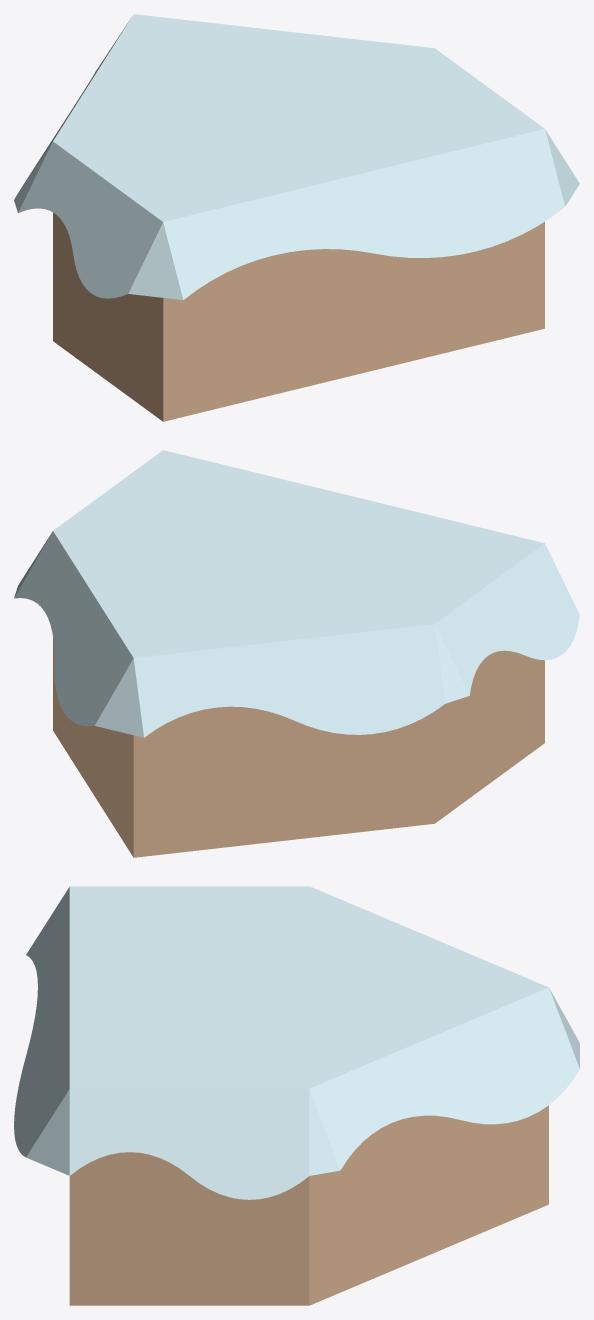
The model's file is blockSnowEnd.glb.
3 renders of one model, top to bottom at view 1: azimuth 30°, elevation 25°; view 2: azimuth 150°, elevation 25°; view 3: azimuth 270°, elevation 25°, orthographic. The views are drawn at different scales.
Parts seen in each view (by area): view 1: blockSnowEnd(Clone); view 2: blockSnowEnd(Clone); view 3: blockSnowEnd(Clone).
Boxes of the visible parts, x1,y1,x2,y2 form: blockSnowEnd(Clone): [14, 14, 579, 421]; blockSnowEnd(Clone): [14, 450, 579, 857]; blockSnowEnd(Clone): [14, 886, 579, 1305].
Bounding box in the file's own units: 1.23 × 0.5 × 1.18.
